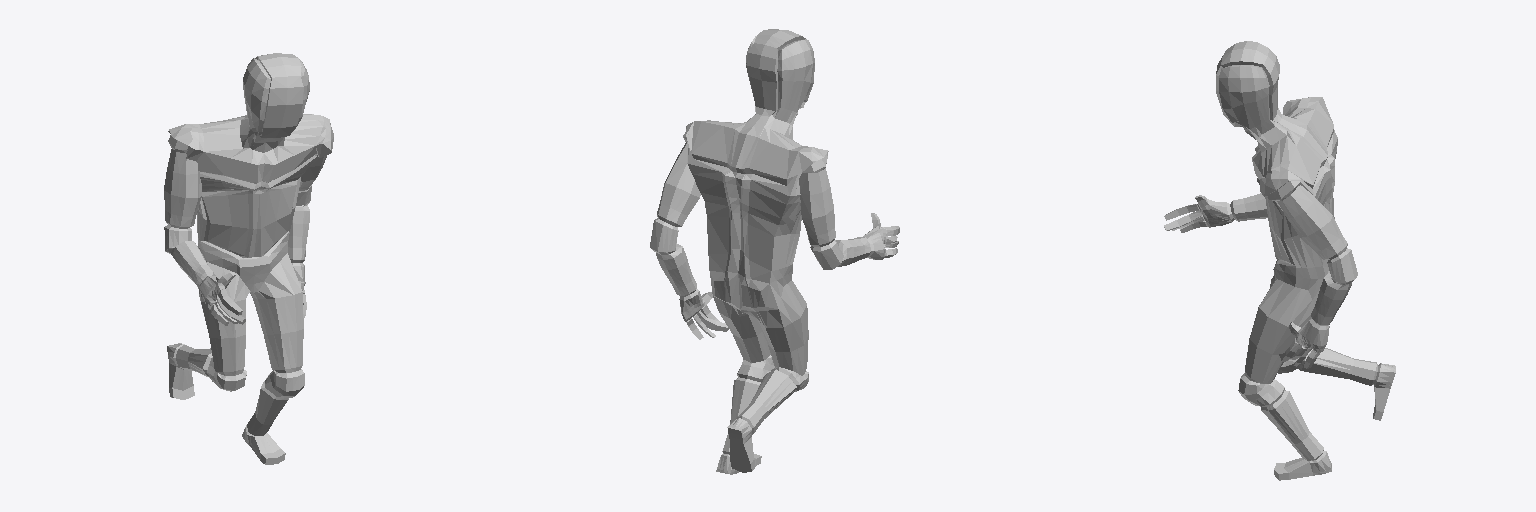
The model's file is GDW_Pyroboy04.obj.
The picture shows the model from 3 angles: view 1: azimuth 30°, elevation 25°; view 2: azimuth 150°, elevation 25°; view 3: azimuth 270°, elevation 25°; orthographic projection.
Size of the model in its own units: 4.13 by 9.78 by 4.88.